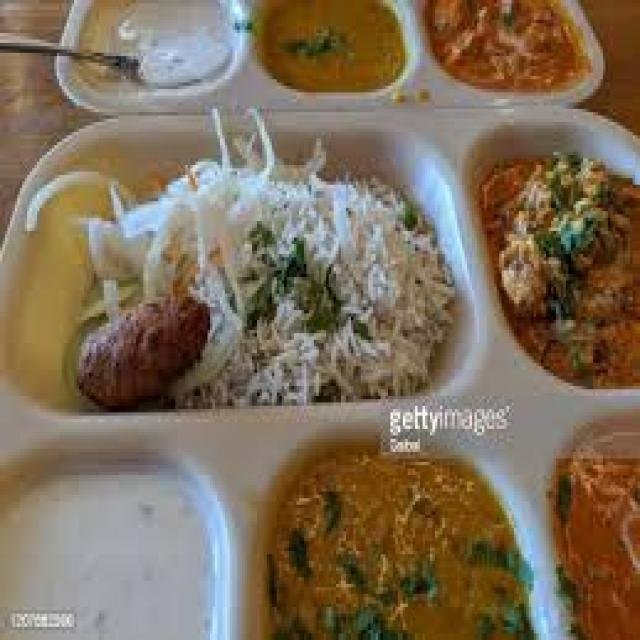dal: (248, 0, 410, 99)
rice: (203, 139, 453, 392)
sambar-rasam: (251, 440, 534, 636)
veg-fry: (422, 0, 599, 107)
